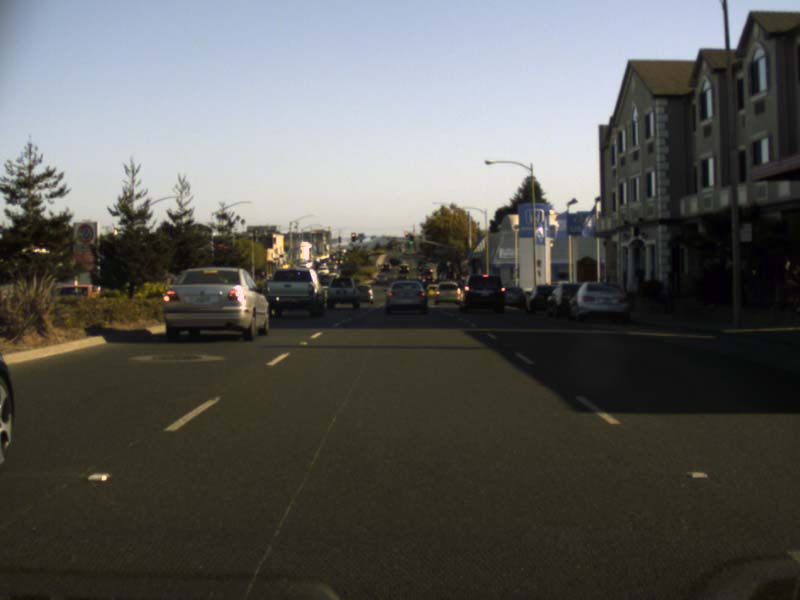Green: (409, 235, 413, 244)
Red: (351, 231, 355, 241)
